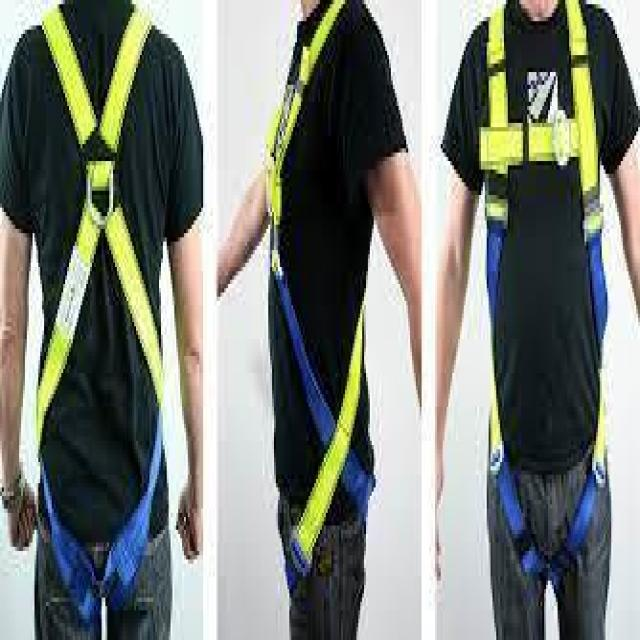Harness: (36, 4, 164, 622), (479, 2, 609, 588), (265, 2, 375, 593)
